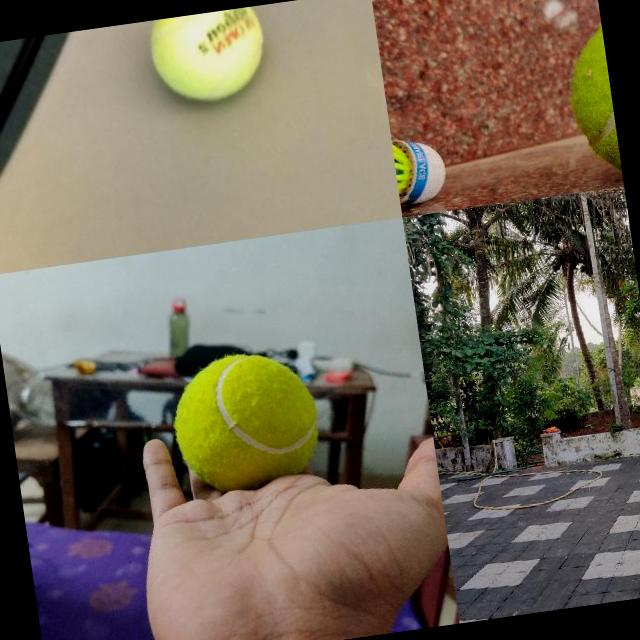Tennis Ball: (166, 344, 326, 488), (145, 5, 275, 111), (558, 12, 624, 191)
